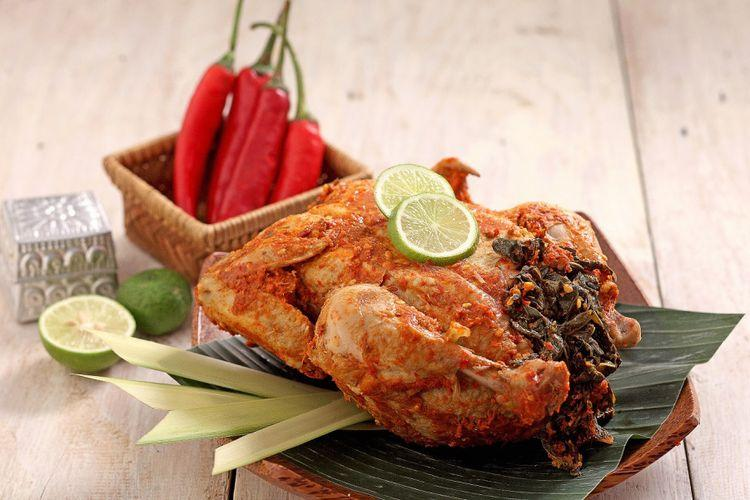ayam_betutu: (195, 159, 643, 480)
